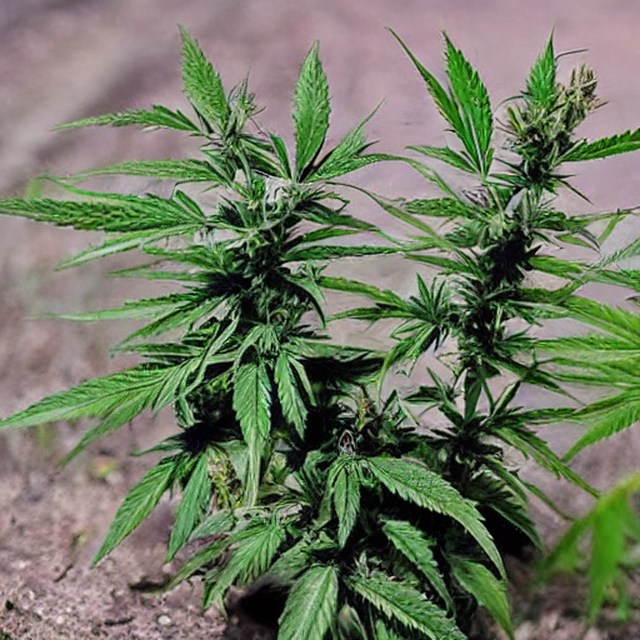Marijuana Plant: (0, 45, 640, 639)
